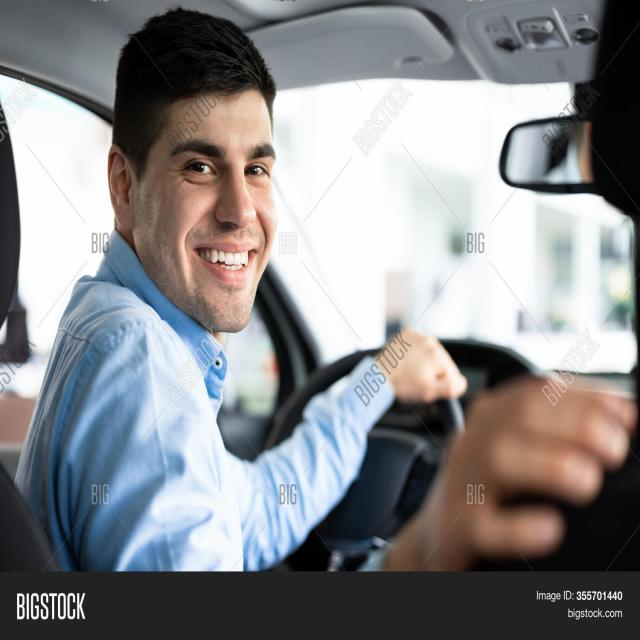Focused: (152, 96, 280, 301)
